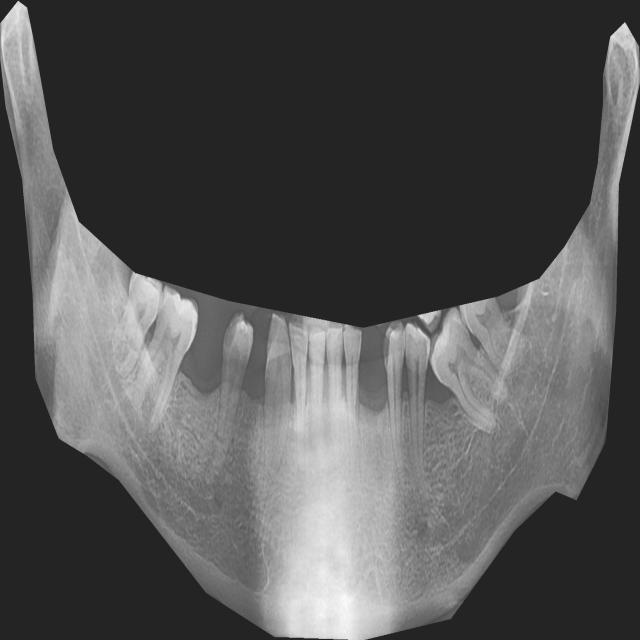mandibula: (0, 1, 640, 640)
